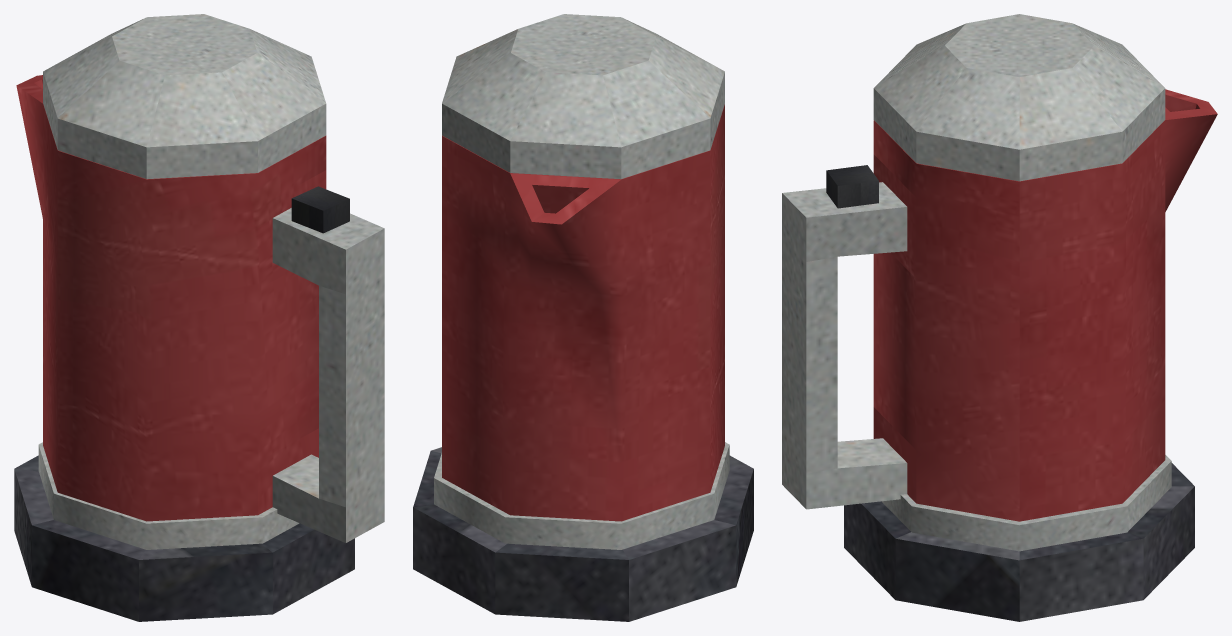
File: kettle1.FBX
3 views of the same model, side by side, from view 1: azimuth 30°, elevation 25°; view 2: azimuth 150°, elevation 25°; view 3: azimuth 270°, elevation 25° (orthographic).
Parts seen in each view (by area): view 1: Cylinder001, Object002, Object003, Object001, Cylinder002, Box001; view 2: Cylinder001, Object002, Object001, Cylinder002; view 3: Cylinder001, Object002, Object001, Object003, Cylinder002, Box001.
Boxes of the visible parts, x1,y1,x2,y2 form: Cylinder001: (16, 75, 326, 521); Object002: (43, 14, 326, 179); Object003: (272, 208, 384, 542); Object001: (14, 455, 354, 621); Cylinder002: (38, 442, 299, 549); Box001: (291, 186, 349, 233); Cylinder001: (442, 104, 724, 521); Object002: (442, 14, 724, 179); Object001: (413, 447, 753, 621); Cylinder002: (434, 442, 729, 549); Cylinder001: (873, 89, 1217, 521); Object002: (873, 14, 1165, 181); Object001: (844, 463, 1194, 621); Object003: (782, 182, 907, 509); Cylinder002: (882, 455, 1171, 551); Box001: (826, 165, 878, 208).
Size of the model in its own units: 78.39 by 124 by 97.38.
Materials: 7 (7 with a texture image).
